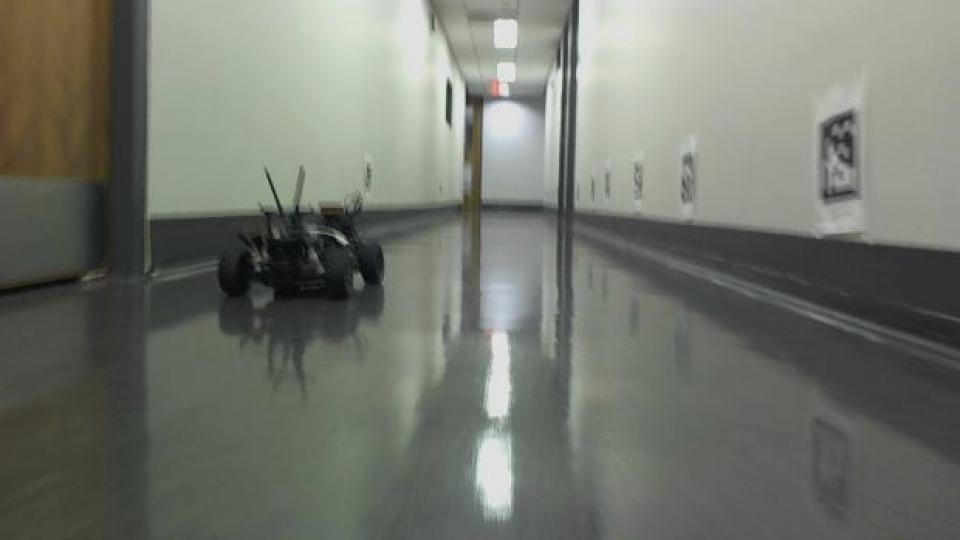car: (214, 158, 387, 306)
